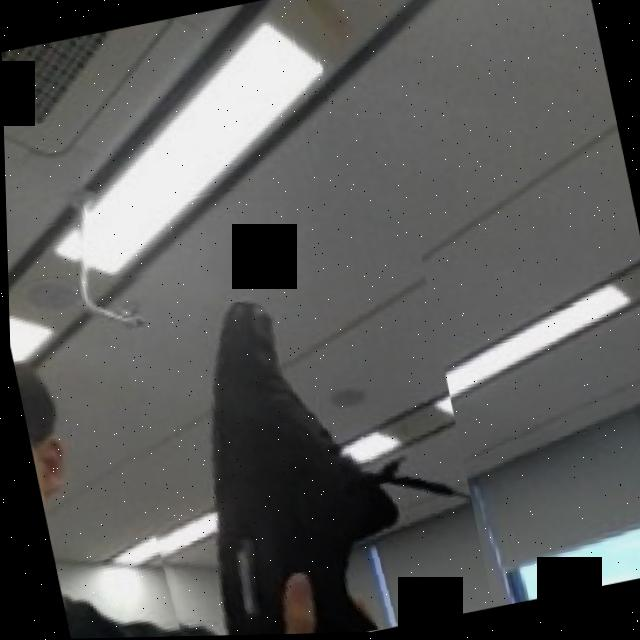shoe: (83, 218, 489, 639)
